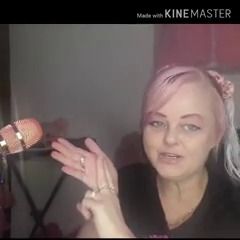N: (49, 132, 126, 237)
